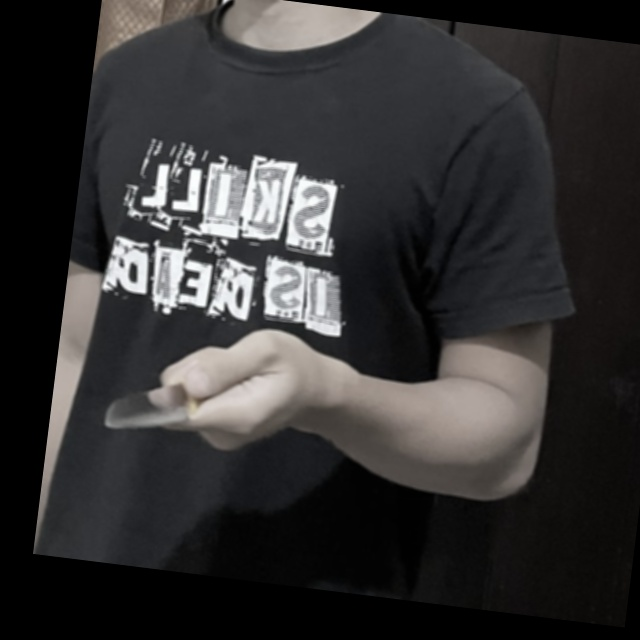Sharp-Object: (99, 369, 223, 445)
